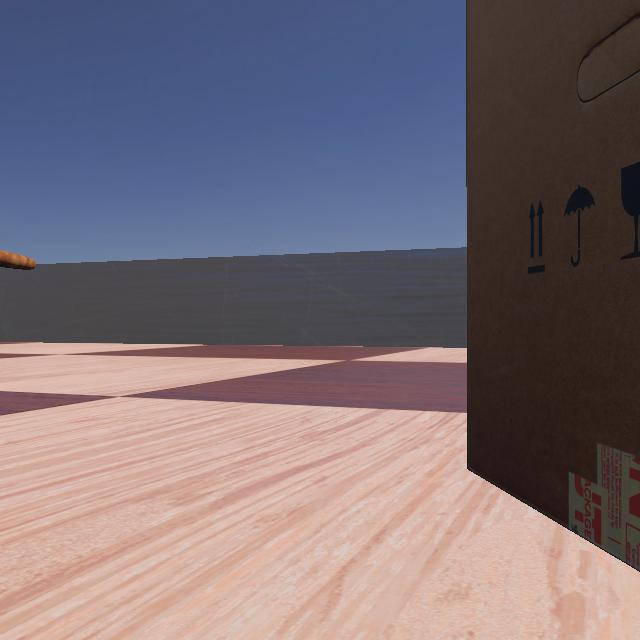cardboard-box: (465, 1, 639, 640)
